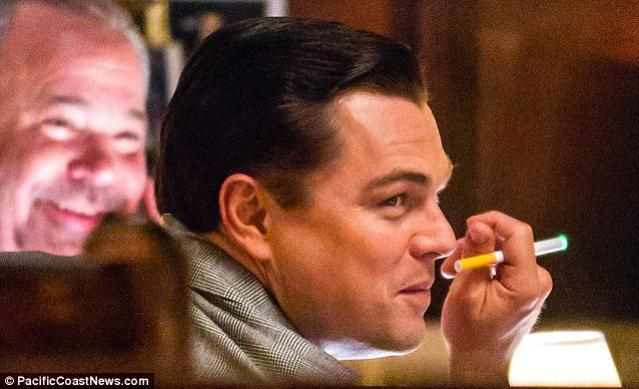SafeDriving: (367, 175, 422, 219)
Smoking: (450, 234, 572, 274)
